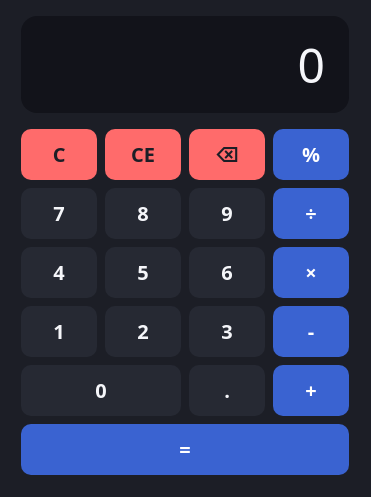
Test case: App — basic calculation (User Story 1) › computes 12 + 7 = 19 via on-screen buttons
This screenshot has width=371, height=497.
Click the button "1" at {"x": 59, "y": 332}, box [21, 306, 97, 357]
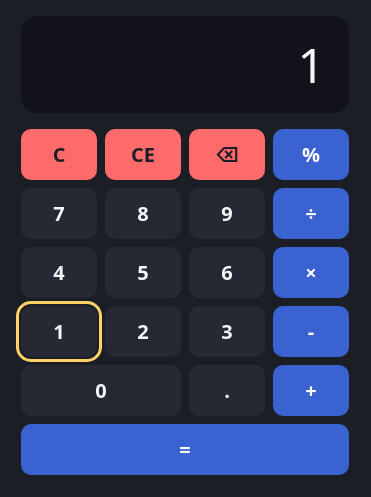
Click the button "2" at {"x": 143, "y": 332}, box [105, 306, 181, 357]
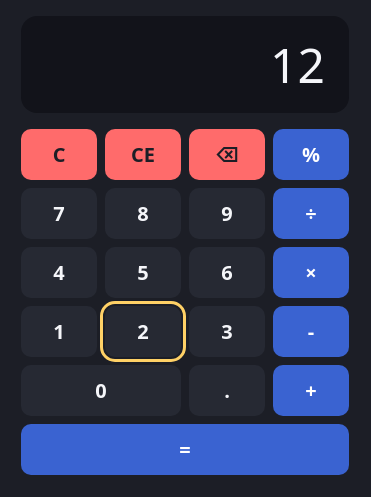
Click the button named "Add" at {"x": 311, "y": 390}, box [273, 365, 349, 416]
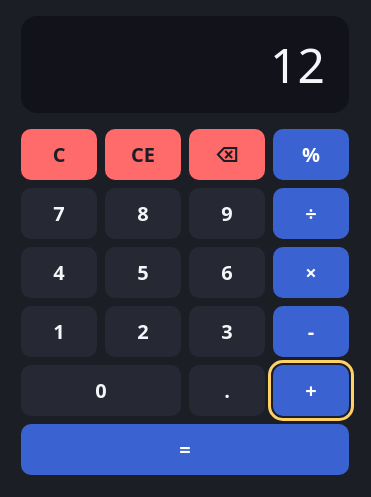
Click the button "7" at {"x": 59, "y": 214}, box [21, 188, 97, 239]
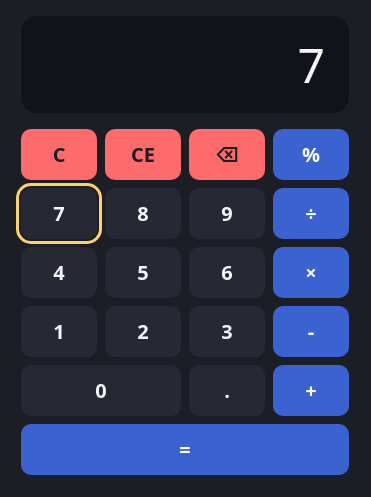
Click the button named "Equals" at {"x": 185, "y": 450}, box [21, 424, 349, 475]
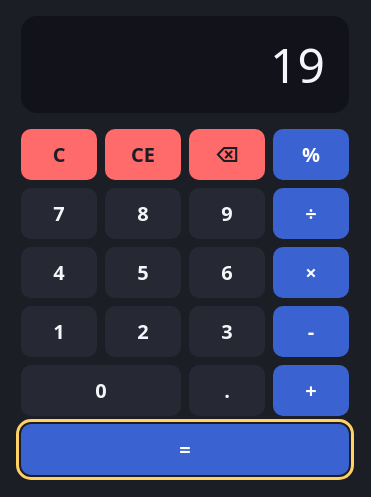
Expected: the message named "Calculator display" reads "19", [270, 32, 325, 97]
